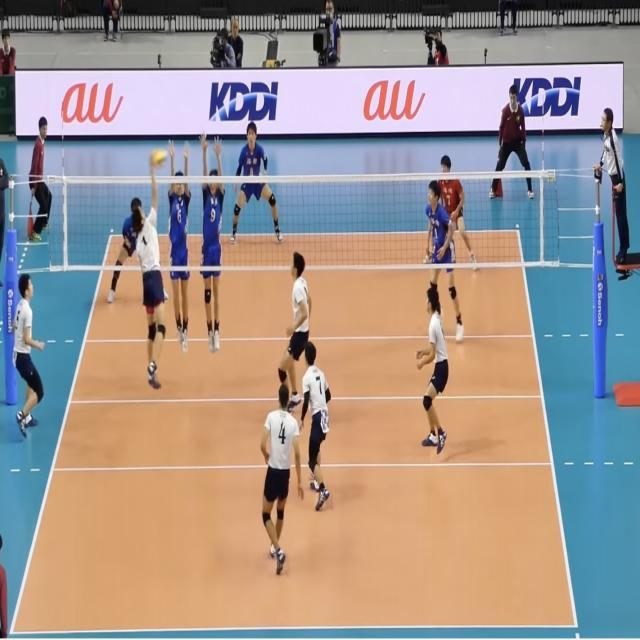spike: (130, 142, 180, 396)
